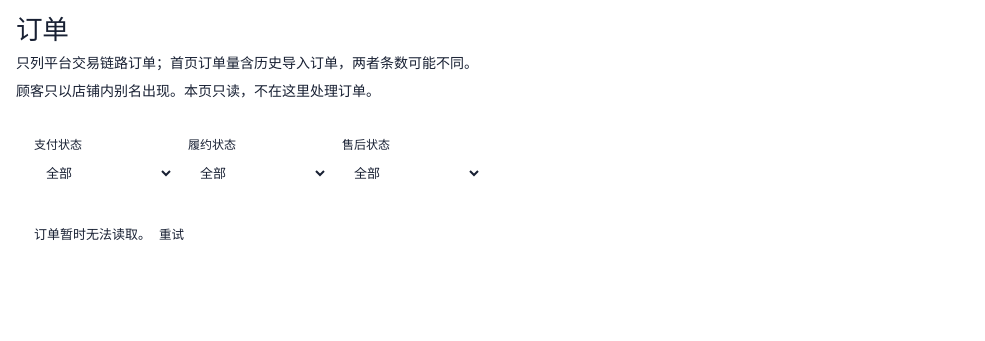
Test case: OrdersView › 读取失败显示错误与重试，重试成功后显示订单
Expected: the message "订单暂时无法读取。 重试" is shown, [34,226,184,244]
Step 1. Click the button with test id "orders-retry" → coordinates (172, 235), box [159,226,184,244]
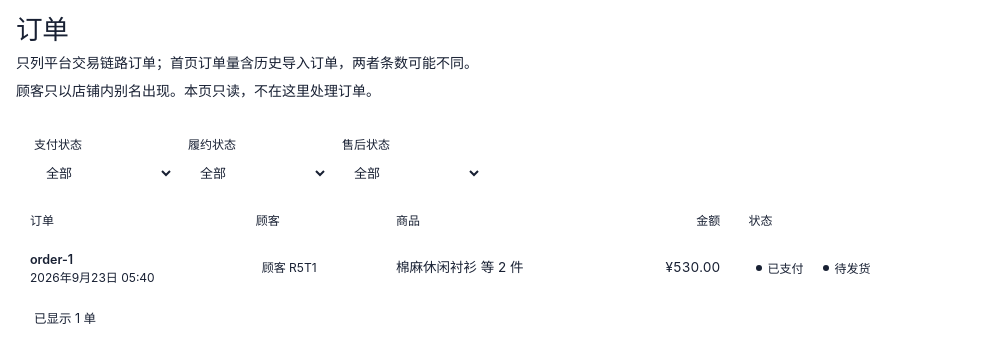
Expected: the number of rows with test id "order-row" is 1, [16,239,968,298]
